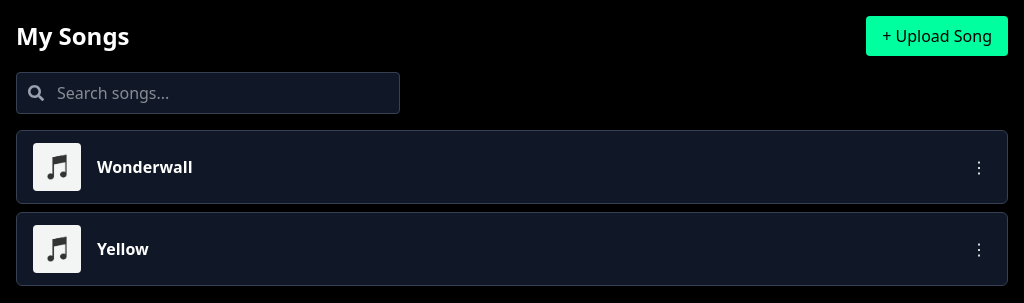
Test case: SongsPage › filters by search term (debounced)
Type "won" into the field with placeholder "Search songs...". click: (208, 93)
box: [16,72,400,114]
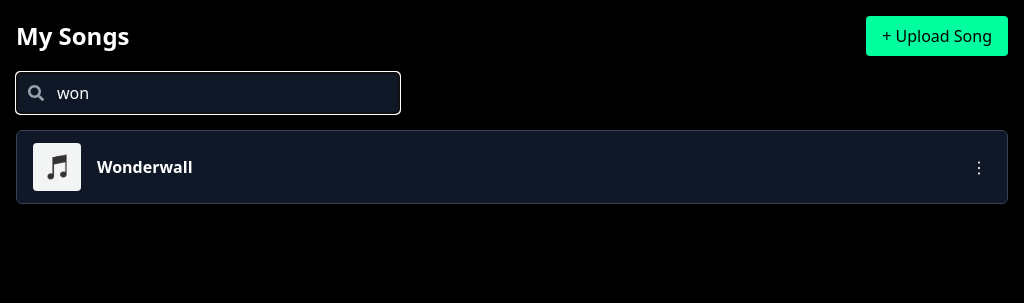
Check: the text "Wonderwall" is shown, box [97,155,192,179]
Check: the link "Yellow" is gone
